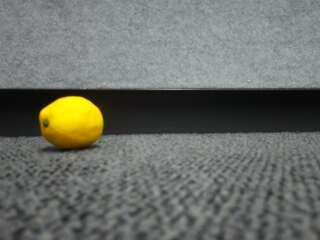lemon: (39, 96, 103, 149)
